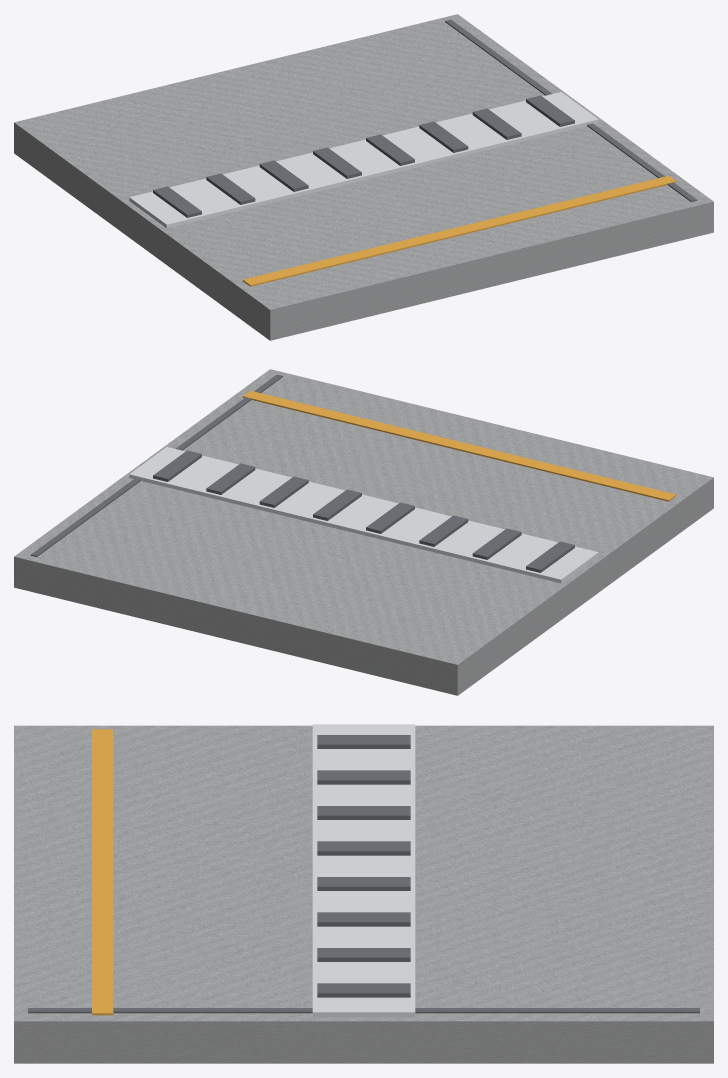
File: boarding-kennels-and-cattery-boarding-kennels-and-catt-7a9543f1__35529.glb
3 views of the same model, one above another, from view 1: azimuth 30°, elevation 25°; view 2: azimuth 150°, elevation 25°; view 3: azimuth 270°, elevation 25° (orthographic). The views are drawn at different scales.
Visible parts, largest first — view 1: boarding-kennels-and-cattery-drainage-channel-floor-tile; view 2: boarding-kennels-and-cattery-drainage-channel-floor-tile; view 3: boarding-kennels-and-cattery-drainage-channel-floor-tile.
Boxes of the visible parts, x1,y1,x2,y2 form: boarding-kennels-and-cattery-drainage-channel-floor-tile: (14, 14, 713, 340); boarding-kennels-and-cattery-drainage-channel-floor-tile: (14, 369, 713, 695); boarding-kennels-and-cattery-drainage-channel-floor-tile: (14, 724, 713, 1063).
Bounding box in the file's own units: 1.5 × 0.122 × 1.5.
4 materials, 1 textured.
